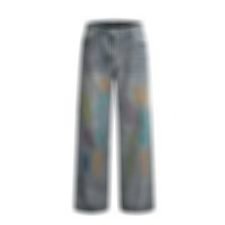earth: (134, 86, 148, 103), (140, 153, 149, 177), (92, 155, 101, 174), (99, 79, 110, 89)
